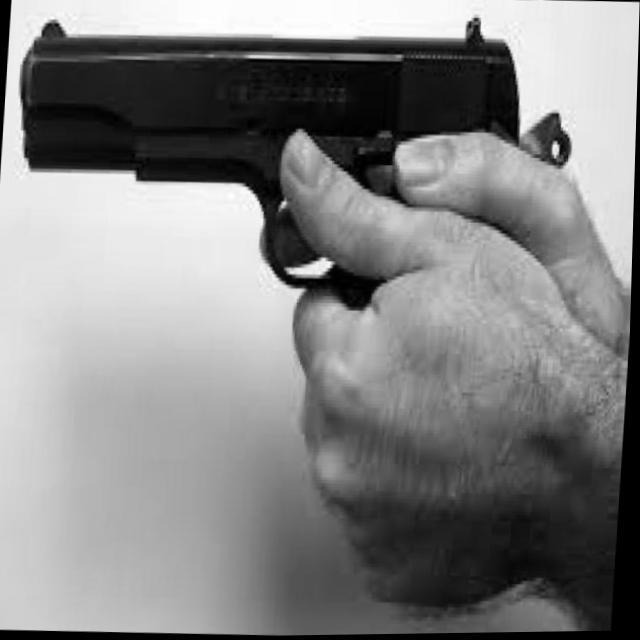weapon: (5, 0, 578, 319)
